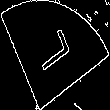L_SW: (33, 29, 77, 81)
